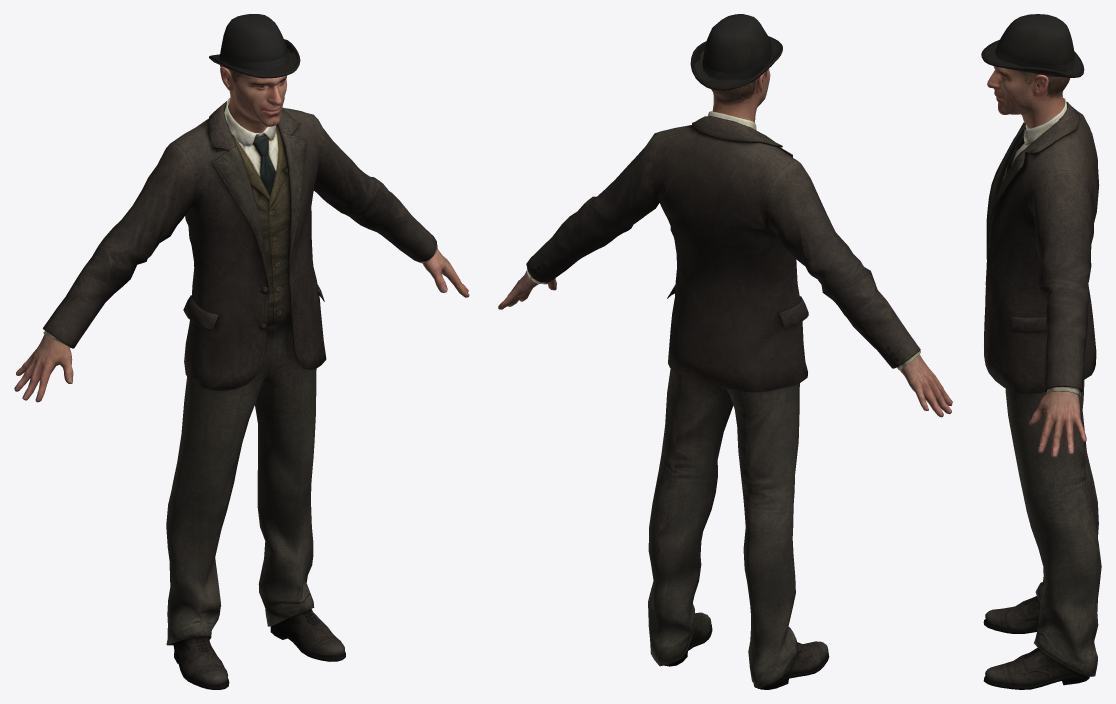
The model's file is Baynes.obj.
3 renders of one model, left to right at view 1: azimuth 30°, elevation 25°; view 2: azimuth 150°, elevation 25°; view 3: azimuth 270°, elevation 25°, orthographic.
Size of the model in its own units: 2.68 by 3.66 by 0.6296.
4 materials, 4 textured.
